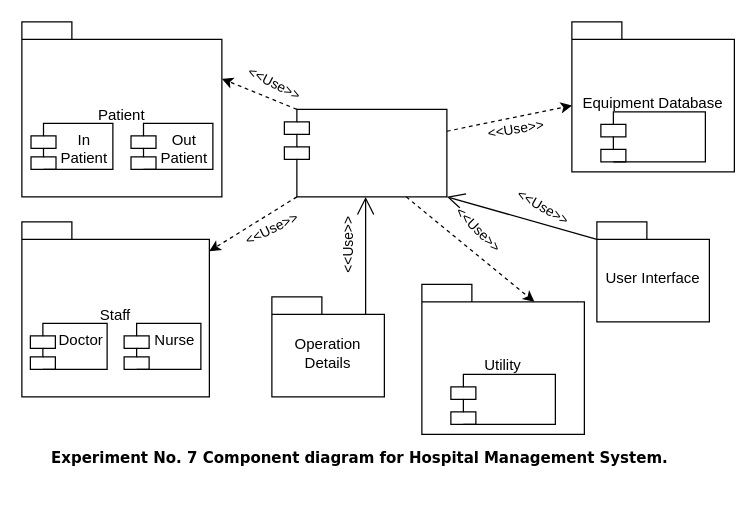
Image size: 756x511. Some labels were removed from this diagram. Each missing label, with the centre of its shape:
Data Processing: (x=502, y=398)
Equipment: (x=652, y=136)
Hospital Management System: (x=365, y=152)
